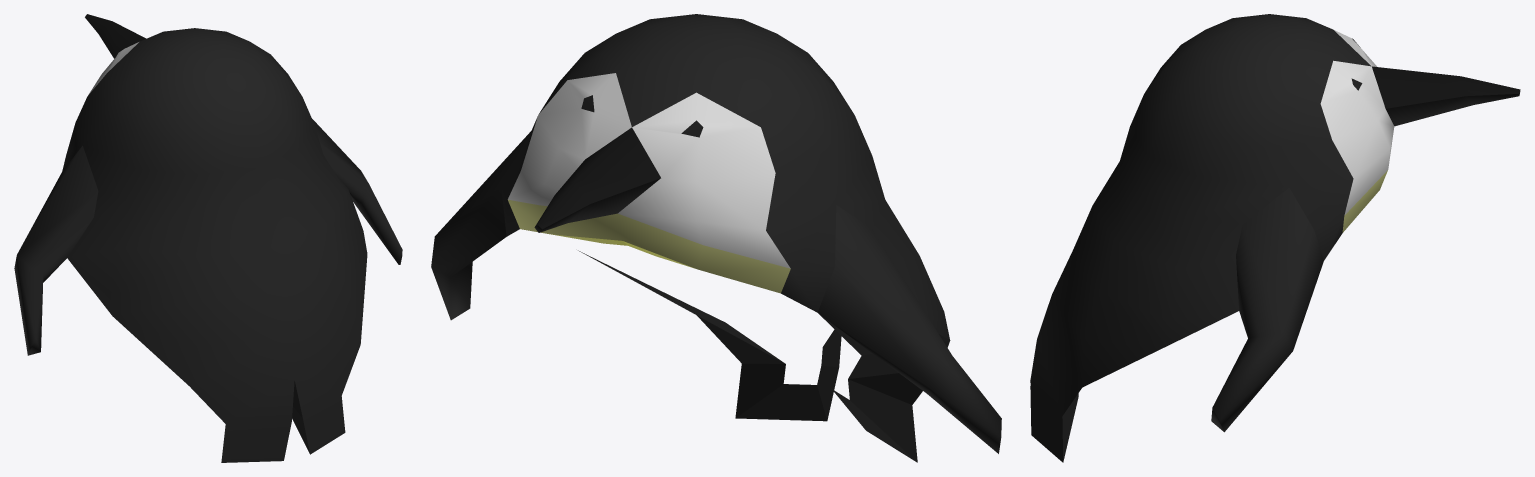
File: hat_penguin.glb
The picture shows the model from 3 angles, left to right: view 1: azimuth 30°, elevation 25°; view 2: azimuth 150°, elevation 25°; view 3: azimuth 270°, elevation 25°; orthographic projection. The views are drawn at different scales.
Parts seen in each view (by area): view 1: hat_penguin; view 2: hat_penguin; view 3: hat_penguin.
Boxes of the visible parts, x1,y1,x2,y2 form: hat_penguin: (14,14,402,462); hat_penguin: (431,14,1001,462); hat_penguin: (1030,14,1520,462).
Size of the model in its own units: 0.6095 by 0.5371 by 0.5957.
